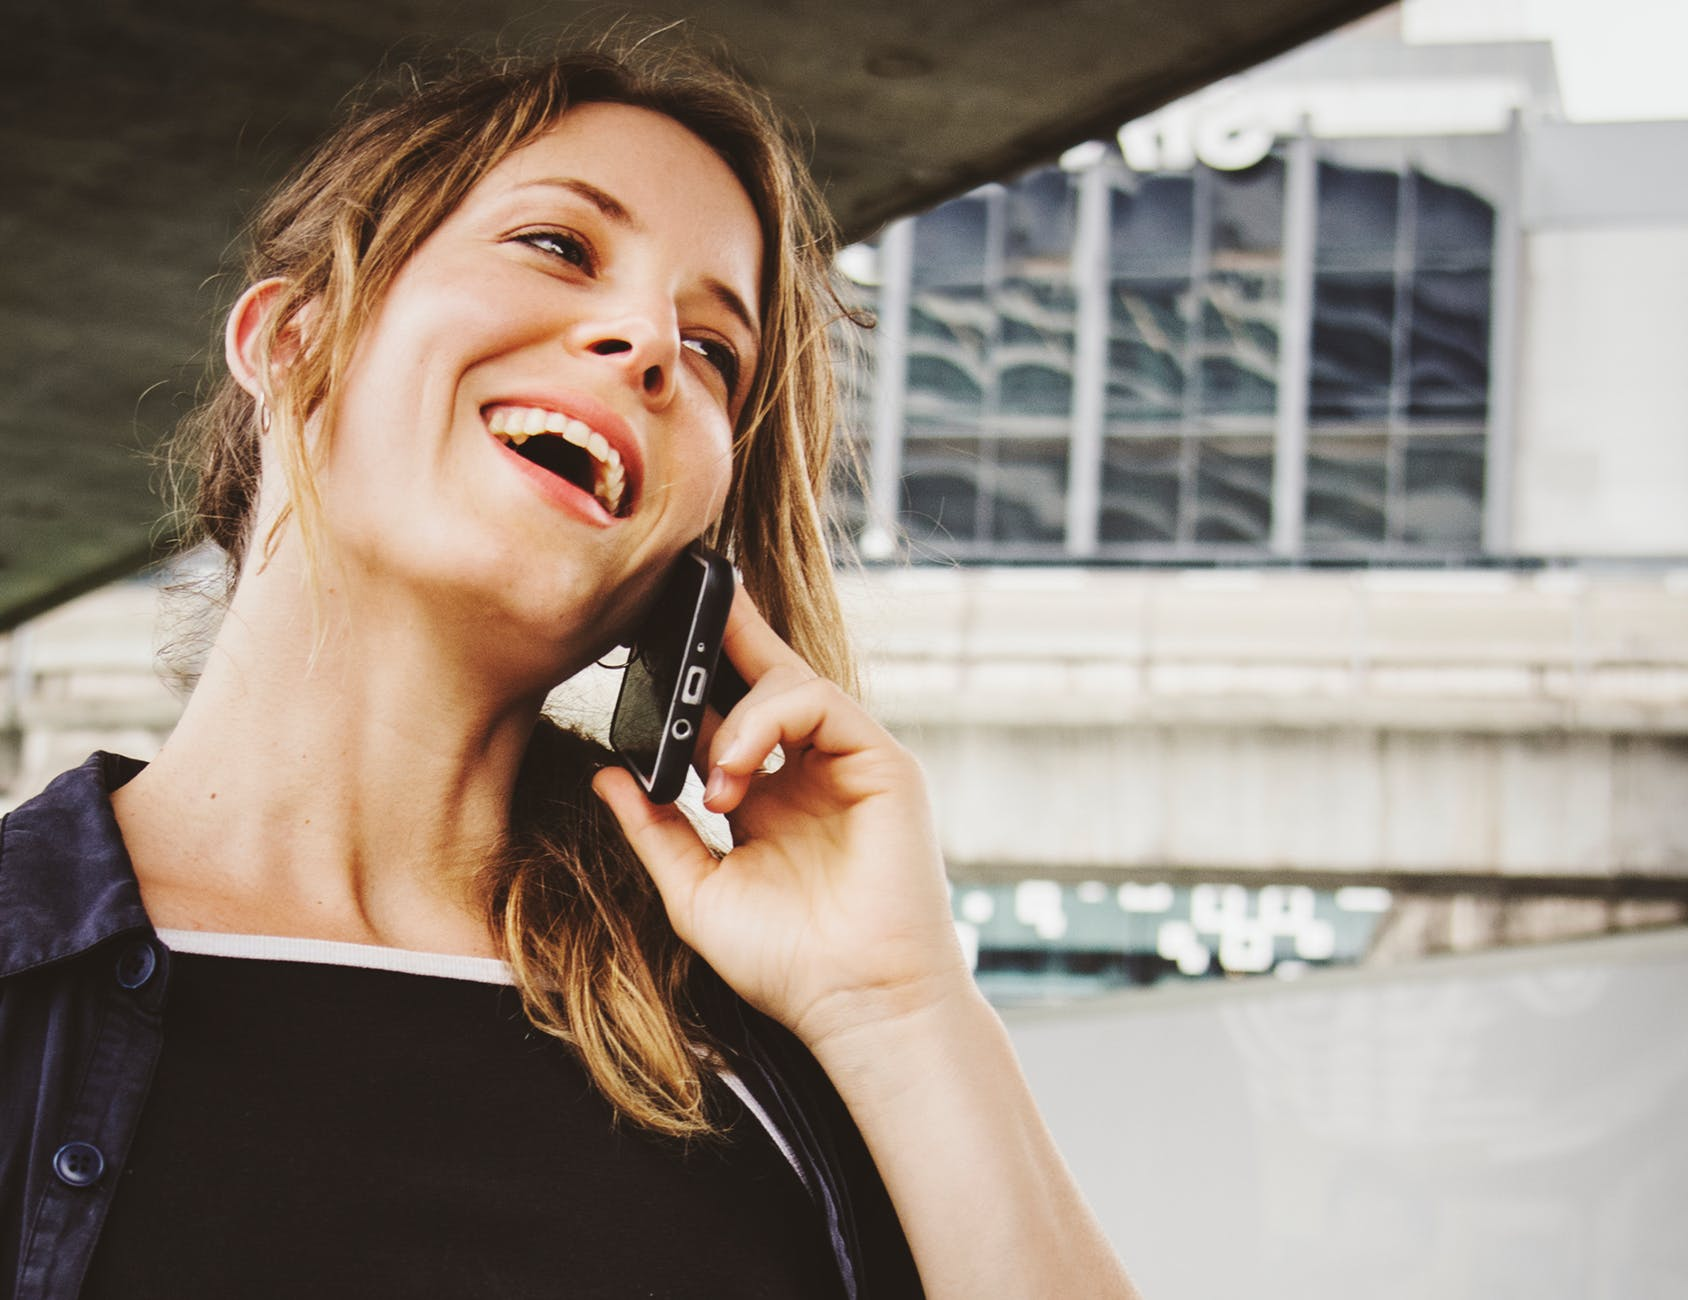phone: (608, 524, 826, 871)
talk: (404, 162, 896, 923)
